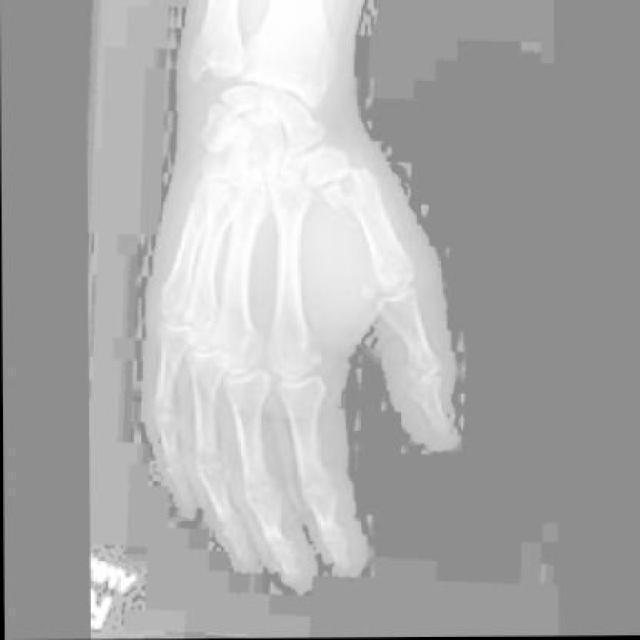Fracture: (322, 166, 379, 214)
